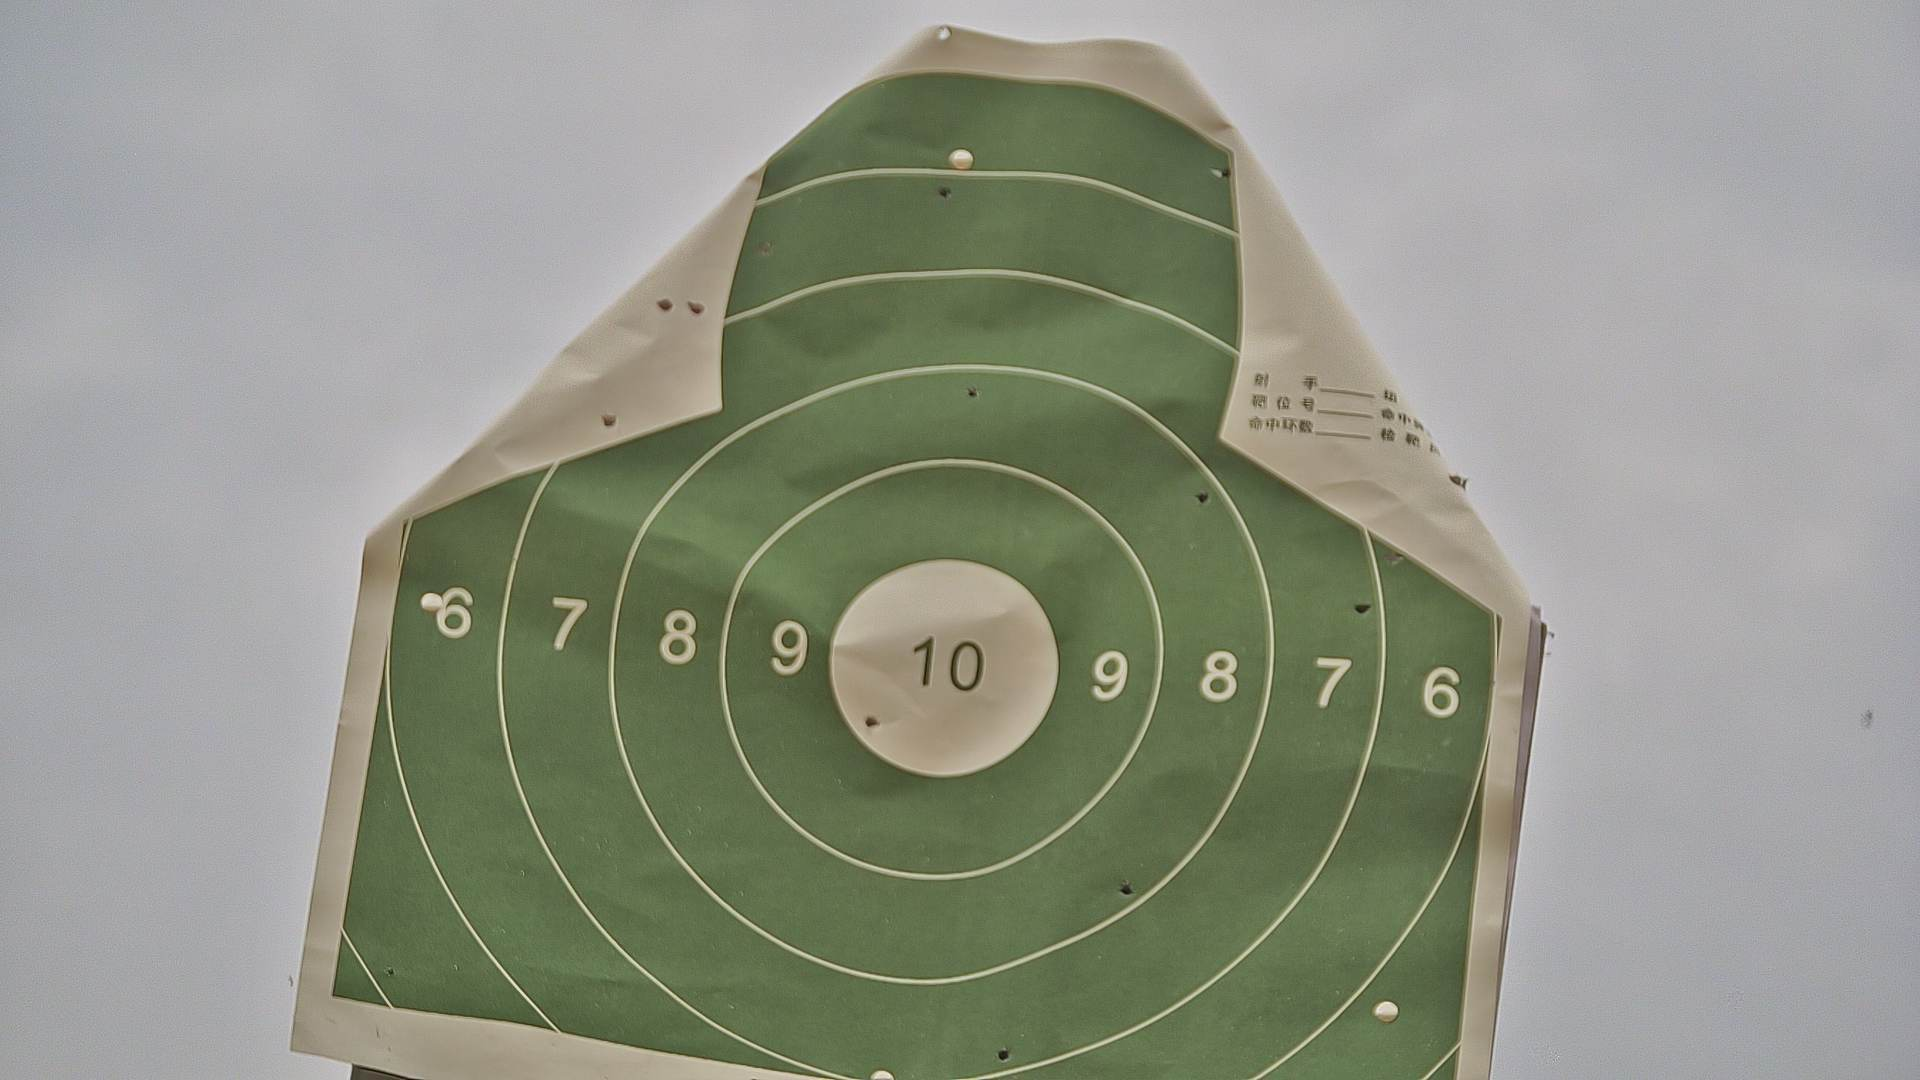hole: (1385, 551, 1404, 564), (1120, 881, 1135, 895), (1356, 601, 1373, 615), (865, 716, 880, 729), (1211, 167, 1226, 179), (1196, 491, 1208, 505), (996, 1048, 1011, 1059), (938, 186, 951, 196), (968, 386, 980, 396), (384, 967, 396, 976)
kernel: (938, 663, 945, 665)
target: (330, 70, 1502, 1080)
ten: (825, 555, 1059, 775)
